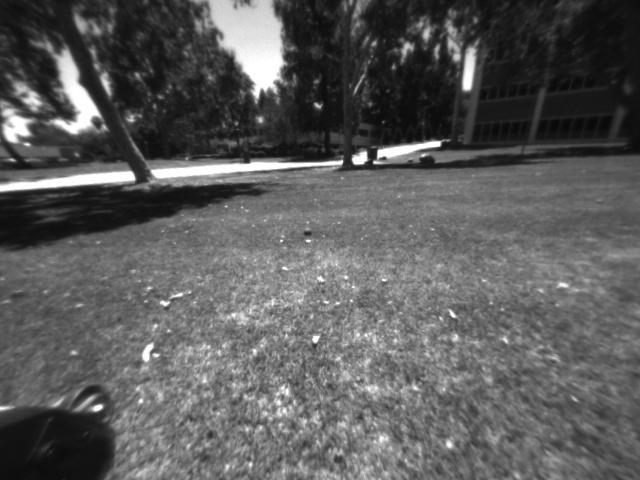dogtoy: (298, 222, 319, 238)
